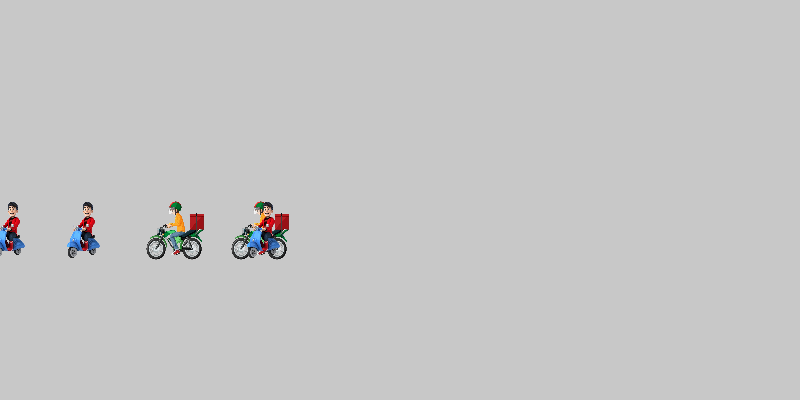helmet: (145, 200, 205, 260), (230, 200, 290, 260)
no_helmet: (55, 200, 115, 260), (235, 200, 295, 260), (0, 200, 40, 260)
